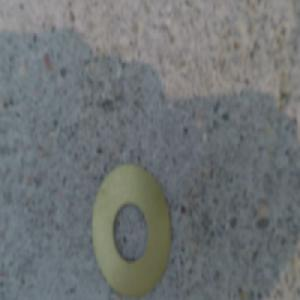Washer: (92, 161, 172, 297)
